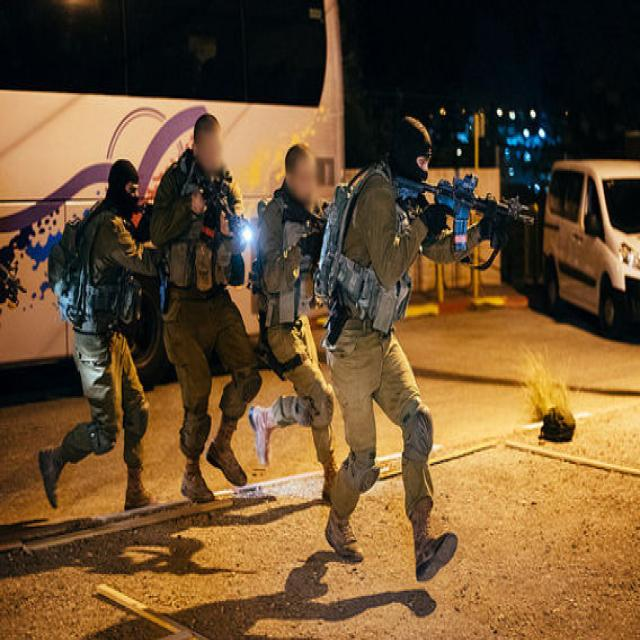Militant: (320, 118, 472, 595), (44, 137, 153, 528), (154, 96, 254, 520), (259, 101, 347, 541)
